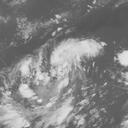cyclone: (49, 37, 106, 77)
